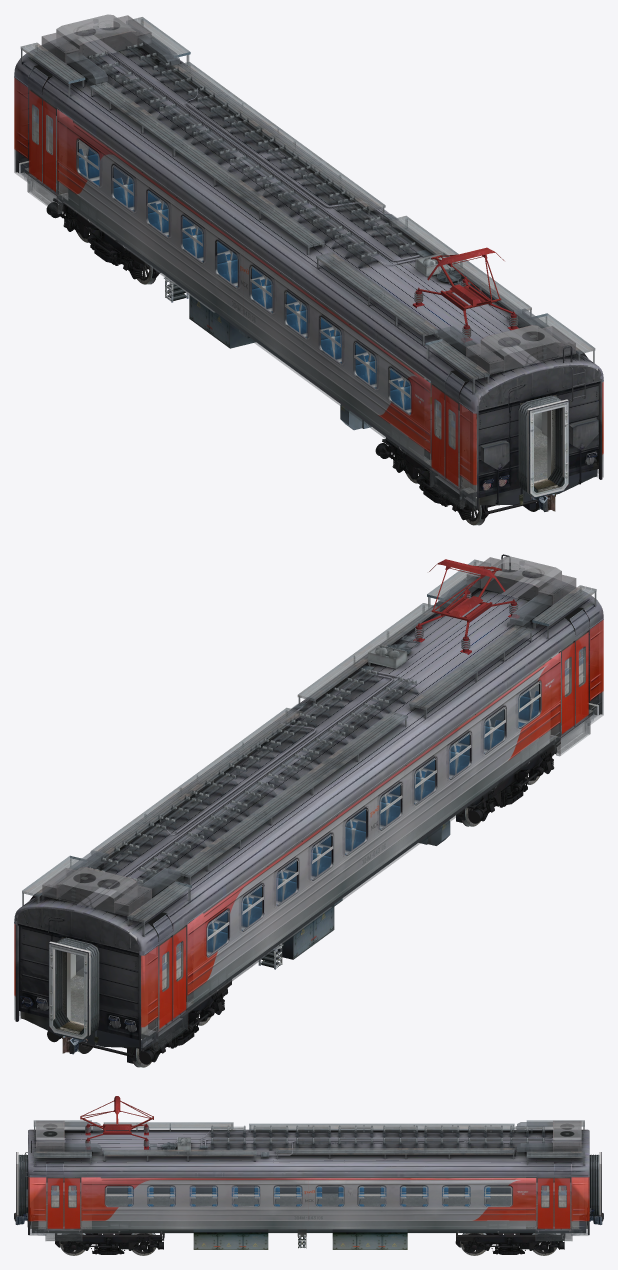
The model's file is ed4m_exterior.glb.
The picture shows the model from 3 angles, top to bottom: view 1: azimuth 30°, elevation 25°; view 2: azimuth 150°, elevation 25°; view 3: azimuth 270°, elevation 25°; orthographic projection. The views are drawn at different scales.
Parts seen in each view (by area): view 1: ed431m_1_1, ostekl_1, ed431m_2_0, ed431m_4_0, ed431m_door2_1, telega_1, pantogr_1, ed431m_door2_0; view 2: ed431m_1_1, ostekl_1, ed431m_2_0, ed431m_4_0, ed431m_door2_1, telega_1, pantogr_1, ed431m_door2_0; view 3: ostekl_1, ed431m_1_1, ed431m_2_0, ed431m_4_0, telega_1, ed431m_door2_1, ed431m_door2_0, pantogr_1, telega_3, telega_2, telega_0, ed431_scep_0.
Boxes of the visible parts, box(x1,y1,x2,y2) form: ed431m_1_1: box(14, 27, 603, 509); ostekl_1: box(14, 14, 603, 509); ed431m_2_0: box(25, 90, 556, 493); ed431m_4_0: box(78, 140, 541, 460); ed431m_door2_1: box(28, 87, 459, 489); telega_1: box(46, 197, 538, 520); pantogr_1: box(412, 247, 518, 342); ed431m_door2_0: box(31, 90, 460, 487); ed431m_1_1: box(14, 554, 603, 1051); ostekl_1: box(14, 556, 603, 1050); ed431m_2_0: box(61, 632, 592, 1035); ed431m_4_0: box(76, 682, 539, 1002); ed431m_door2_1: box(158, 630, 589, 1031); telega_1: box(47, 739, 560, 1064); pantogr_1: box(413, 559, 519, 654); ed431m_door2_0: box(157, 632, 586, 1029); ostekl_1: box(28, 1120, 589, 1241); ed431m_1_1: box(16, 1128, 601, 1249); ed431m_2_0: box(30, 1177, 587, 1231); ed431m_4_0: box(106, 1187, 511, 1206); telega_1: box(55, 1233, 564, 1254); ed431m_door2_1: box(46, 1178, 570, 1229); ed431m_door2_0: box(46, 1177, 571, 1228); pantogr_1: box(80, 1096, 153, 1149); telega_3: box(60, 1233, 556, 1255); telega_2: box(62, 1233, 555, 1253); telega_0: box(59, 1126, 558, 1255); ed431_scep_0: box(14, 1212, 603, 1224).
Size of the model in its own units: 3.18 by 5.5 by 20.37.
12 materials, 12 textured.
